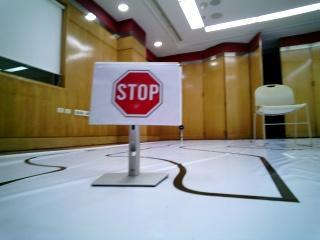stop: (100, 66, 171, 118)
